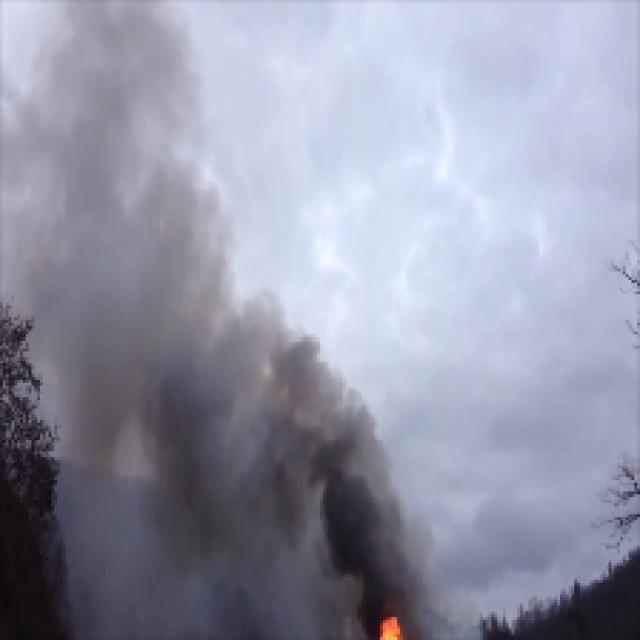Fire: (374, 616, 399, 640)
Smoke: (60, 23, 200, 427), (202, 315, 314, 586), (317, 398, 392, 611)
